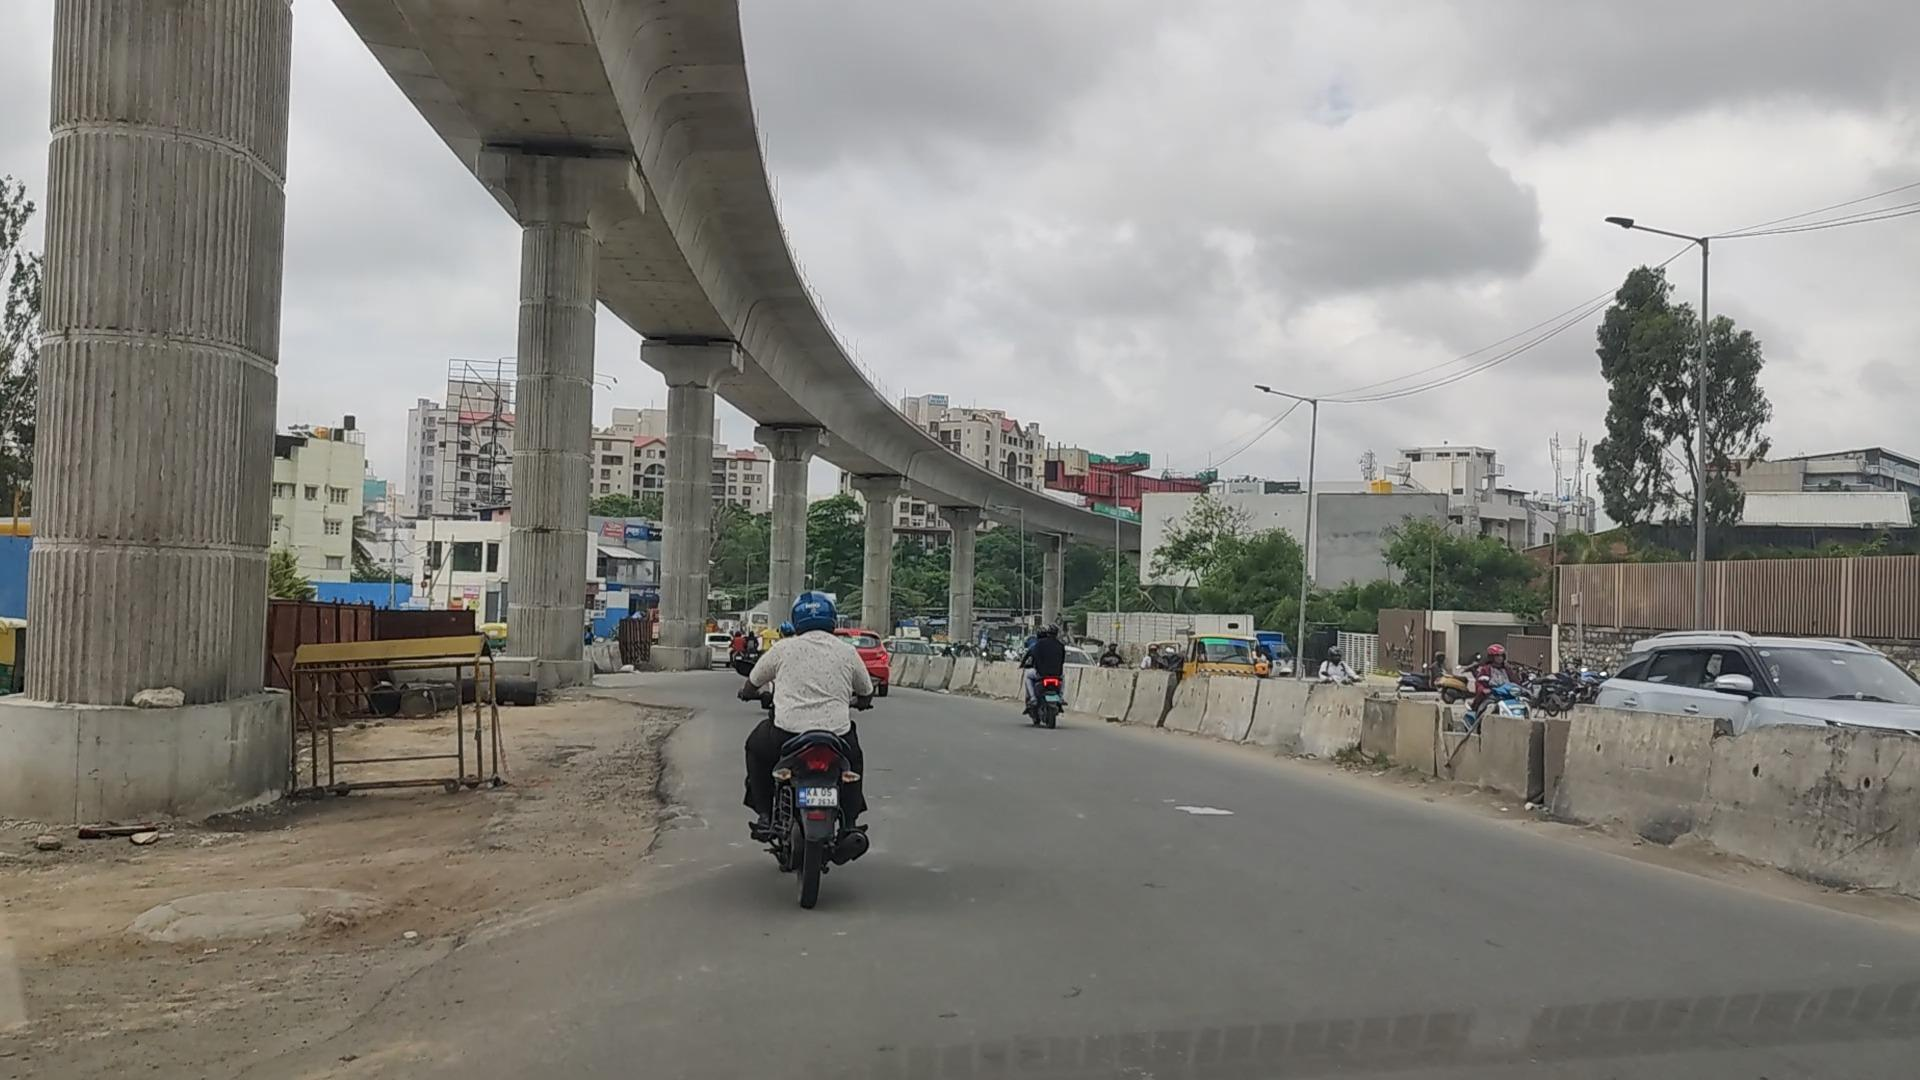LMV: (758, 596, 873, 897), (1018, 616, 1069, 719)
RoadDamages: (49, 955, 464, 1068), (566, 690, 712, 866), (135, 868, 401, 951), (414, 822, 568, 948)
